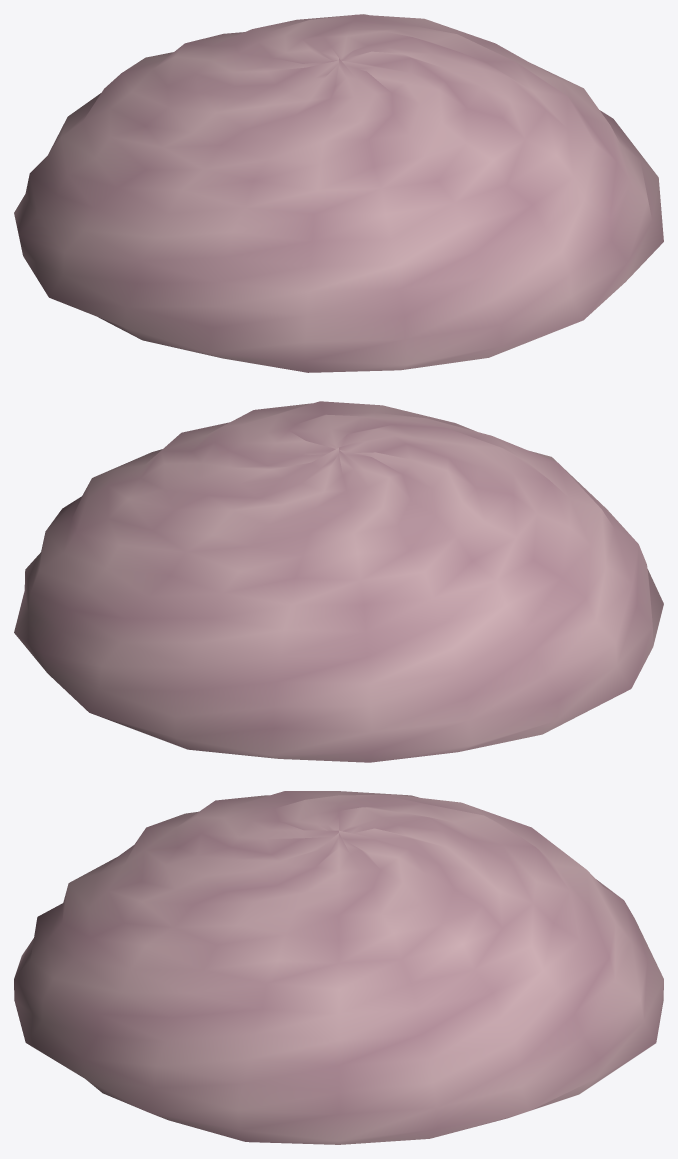
The model's file is coral_b_lod0.glb.
3 views of the same model, one above another, from view 1: azimuth 30°, elevation 25°; view 2: azimuth 150°, elevation 25°; view 3: azimuth 270°, elevation 25° (orthographic).
Visible parts, largest first — view 1: coral_b_lod0; view 2: coral_b_lod0; view 3: coral_b_lod0.
Boxes of the visible parts, bbox=[...] form: coral_b_lod0: bbox=[14, 14, 663, 372]; coral_b_lod0: bbox=[14, 401, 663, 762]; coral_b_lod0: bbox=[14, 791, 663, 1144].
Bounding box in the file's own units: 1.64 × 0.5134 × 1.59.
